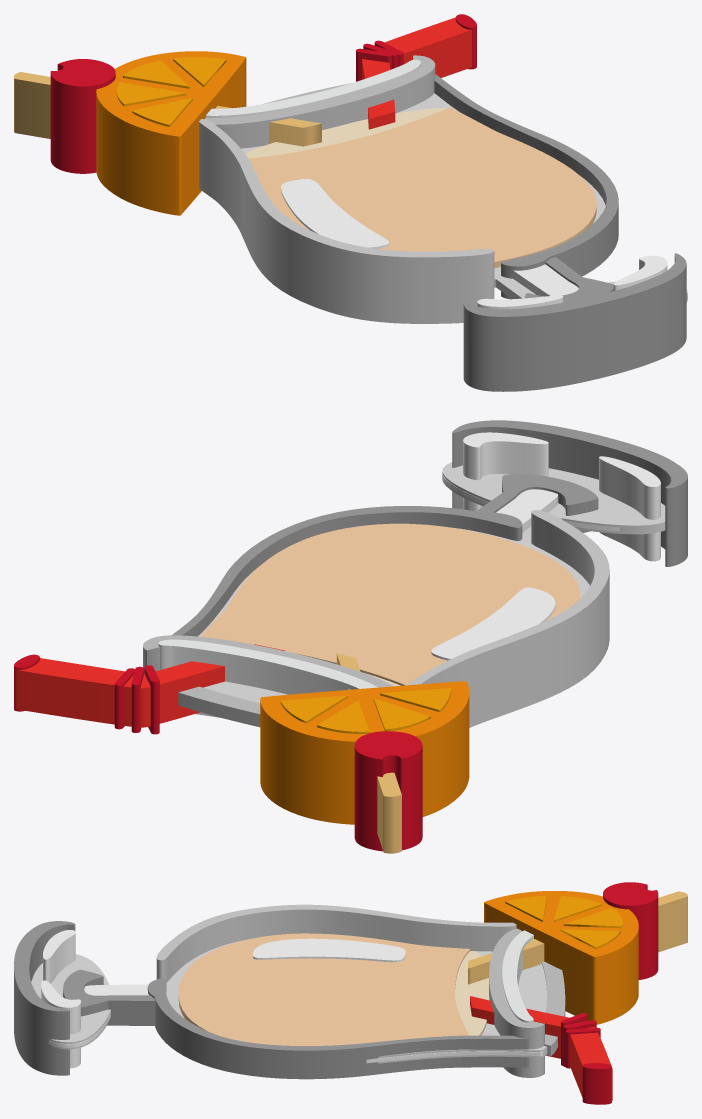
File: emoji_u1f379.glb
The picture shows the model from 3 angles, top to bottom: view 1: azimuth 30°, elevation 25°; view 2: azimuth 150°, elevation 25°; view 3: azimuth 270°, elevation 25°; orthographic projection. The views are drawn at different scales.
Visible parts, largest first — view 1: emoji_u1f379; view 2: emoji_u1f379; view 3: emoji_u1f379.
Part boxes in pixels (<box>): emoji_u1f379: <box>14,14,687,391</box>; emoji_u1f379: <box>14,420,687,853</box>; emoji_u1f379: <box>14,882,687,1104</box>.
Bounding box in the file's own units: 0.0207 × 0.0042 × 0.0342.
